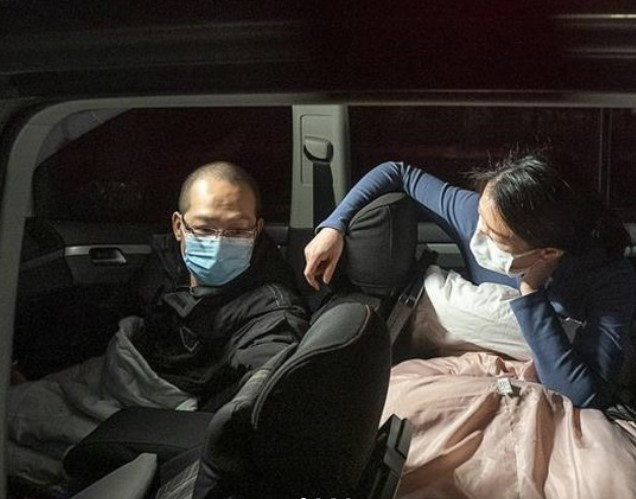face_with_mask: (174, 163, 270, 289), (469, 165, 566, 282)
